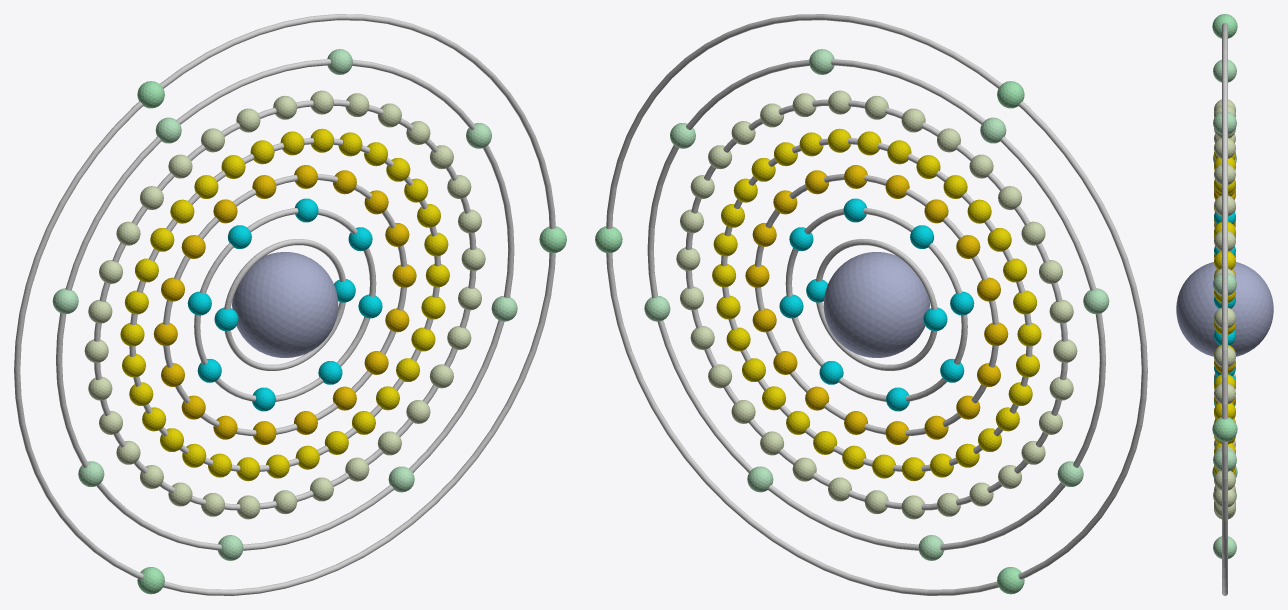
3 renders of one model, left to right at view 1: azimuth 30°, elevation 25°; view 2: azimuth 150°, elevation 25°; view 3: azimuth 270°, elevation 25°, orthographic. The views are drawn at different scales.
Parts seen in each view (by area): view 1: world; view 2: world; view 3: world.
Boxes of the visible parts, x1,y1,x2,y2 form: world: (14, 14, 566, 595); world: (595, 14, 1147, 595); world: (1176, 14, 1273, 595).
Size of the model in its own units: 2.63 by 2.59 by 0.44.
